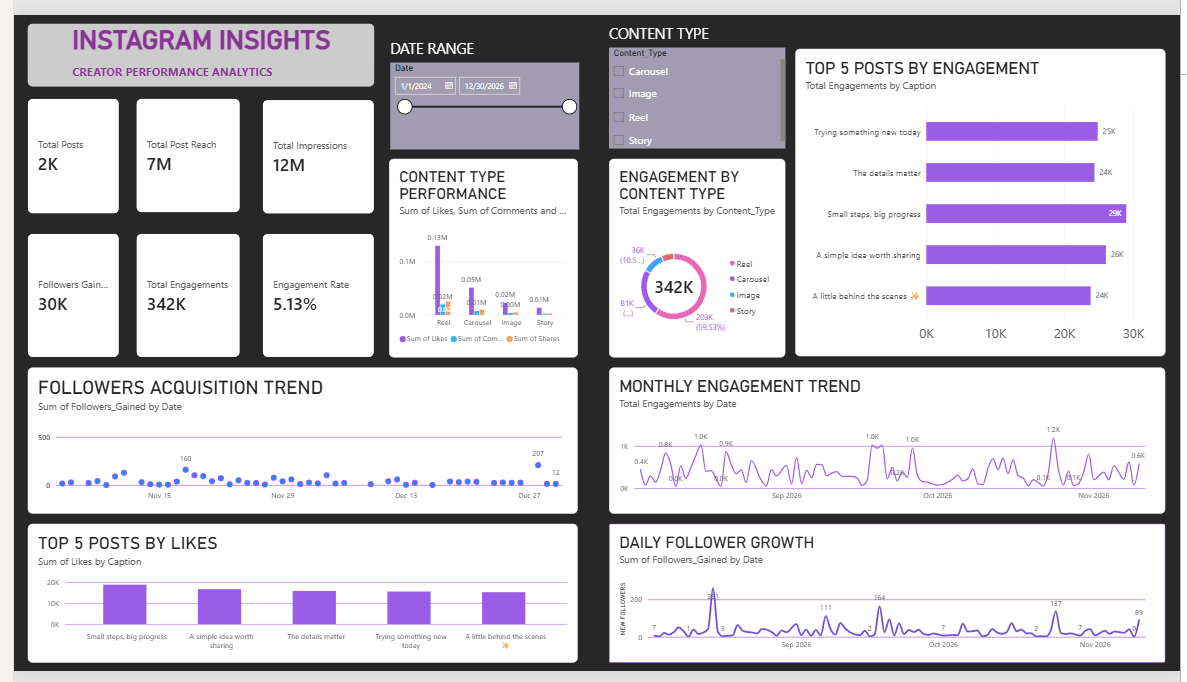

What the dashboard file says about the page in this screenshot:
{"tool":"powerbi","page":{"name":"INSTAGRAM INSIGHTS","canvas":[1920,1080],"ordinal":0},"visuals":[{"type":"cardVisual","fields":{"Data":["Posts.Total Posts"]},"box":[22.6,137.9,150.3,189.4],"z":0},{"type":"textbox","title":"INSTAGRAM INSIGHTS","box":[22.6,14.4,570.2,102.9],"z":1000},{"type":"cardVisual","fields":{"Data":["Posts.Total Post Reach"]},"box":[201.7,137.9,170.8,187.3],"z":2000},{"type":"cardVisual","fields":{"Data":["Posts.Total Impressions"]},"box":[409.6,140,183.2,187.3],"z":3000},{"type":"cardVisual","fields":{"Data":["Posts.Total Followers Gained"]},"box":[22.6,360.2,150.3,203.8],"z":4000},{"type":"cardVisual","fields":{"Data":["Posts.Total Engagements"]},"box":[201.7,360.2,170.8,203.8],"z":5000},{"type":"cardVisual","fields":{"Data":["Calendar.Engagement Rate"]},"box":[409.6,360.2,183.2,203.8],"z":6000},{"type":"lineChart","title":"FOLLOWERS ACQUISITION TREND","fields":{"Category":["Posts.Date"],"Y":["Sum(Posts.Followers_Gained)"]},"box":[22.6,580.4,905.7,240.8],"z":7000},{"type":"lineChart","title":" MONTHLY ENGAGEMENT TREND","fields":{"Category":["Posts.Date"],"Y":["Posts.Total Engagements"]},"box":[979.8,580.4,916,240.8],"z":8000},{"type":"clusteredBarChart","title":"TOP 5 POSTS BY ENGAGEMENT ","fields":{"Category":["Posts.Caption"],"Y":["Posts.Total Engagements"]},"box":[1286.5,55.6,609.3,506.3],"z":9000},{"type":"donutChart","title":"ENGAGEMENT BY CONTENT TYPE","fields":{"Category":["Posts.Content_Type"],"Y":["Posts.Total Engagements"]},"box":[979.8,236.7,290.2,327.3],"z":10000},{"type":"clusteredColumnChart","title":"TOP 5 POSTS BY LIKES","fields":{"Category":["Posts.Caption"],"Y":["Sum(Posts.Likes)"]},"box":[22.6,837.7,905.7,228.5],"z":11000},{"type":"lineChart","title":"DAILY FOLLOWER GROWTH","fields":{"Category":["Posts.Date"],"Y":["Sum(Posts.Followers_Gained)"]},"box":[979.8,837.7,916,228.5],"z":12000},{"type":"clusteredColumnChart","title":"CONTENT TYPE PERFORMANCE","fields":{"Category":["Posts.Content_Type"],"Y":["Sum(Posts.Likes)","Sum(Posts.Comments)","Sum(Posts.Shares)"]},"box":[617.5,236.7,310.8,327.3],"z":13000},{"type":"slicer","fields":{"Values":["Posts.Date"]},"box":[619.6,78.2,310.8,142],"z":14000},{"type":"slicer","fields":{"Values":["Posts.Content_Type"]},"box":[979.8,53.5,290.2,166.7],"z":15000},{"type":"textbox","box":[619.6,39.1,232.6,39.1],"z":17000},{"type":"textbox","box":[979.8,14.4,230.5,49.4],"z":18000}]}

Visuals, with their boxes in screenshot pixels (x1, y1, x2, y2), scaled from the page's 1920x1080 canvas onto the 1187x682 screenshot:
cardVisual - Posts.Total Posts: box(14, 87, 107, 207)
"INSTAGRAM INSIGHTS" textbox: box(14, 9, 366, 74)
cardVisual - Posts.Total Post Reach: box(125, 87, 230, 205)
cardVisual - Posts.Total Impressions: box(253, 88, 366, 207)
cardVisual - Posts.Total Followers Gained: box(14, 227, 107, 356)
cardVisual - Posts.Total Engagements: box(125, 227, 230, 356)
cardVisual - Calendar.Engagement Rate: box(253, 227, 366, 356)
"FOLLOWERS ACQUISITION TREND" lineChart: box(14, 367, 574, 519)
" MONTHLY ENGAGEMENT TREND" lineChart: box(606, 367, 1172, 519)
"TOP 5 POSTS BY ENGAGEMENT " clusteredBarChart: box(795, 35, 1172, 355)
"ENGAGEMENT BY CONTENT TYPE" donutChart: box(606, 149, 785, 356)
"TOP 5 POSTS BY LIKES" clusteredColumnChart: box(14, 529, 574, 673)
"DAILY FOLLOWER GROWTH" lineChart: box(606, 529, 1172, 673)
"CONTENT TYPE PERFORMANCE" clusteredColumnChart: box(382, 149, 574, 356)
slicer - Posts.Date: box(383, 49, 575, 139)
slicer - Posts.Content_Type: box(606, 34, 785, 139)
textbox: box(383, 25, 527, 49)
textbox: box(606, 9, 748, 40)
